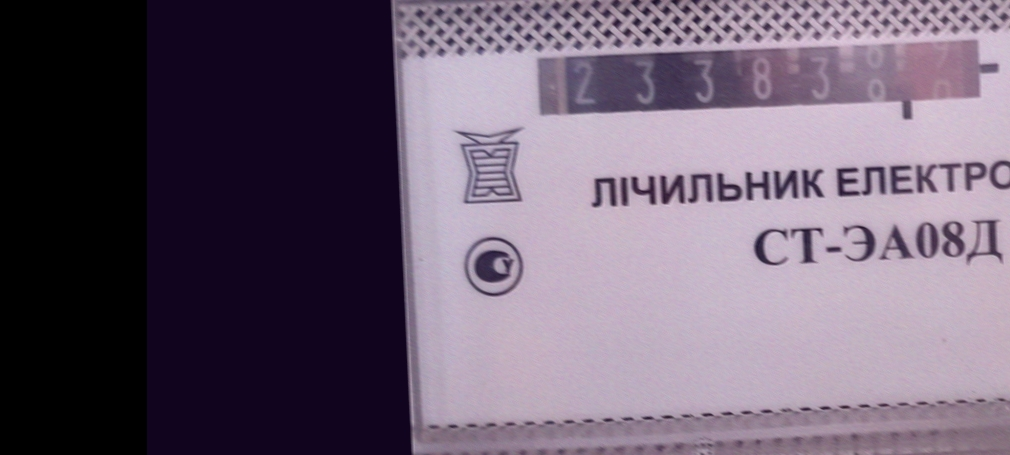0: (929, 74, 956, 100)
2: (569, 57, 599, 107)
3: (630, 56, 659, 107), (691, 55, 718, 107), (807, 52, 834, 101)
8: (749, 54, 775, 101), (861, 43, 890, 70)
9: (862, 74, 890, 104), (928, 39, 954, 69)
screen: (525, 25, 1000, 139)
